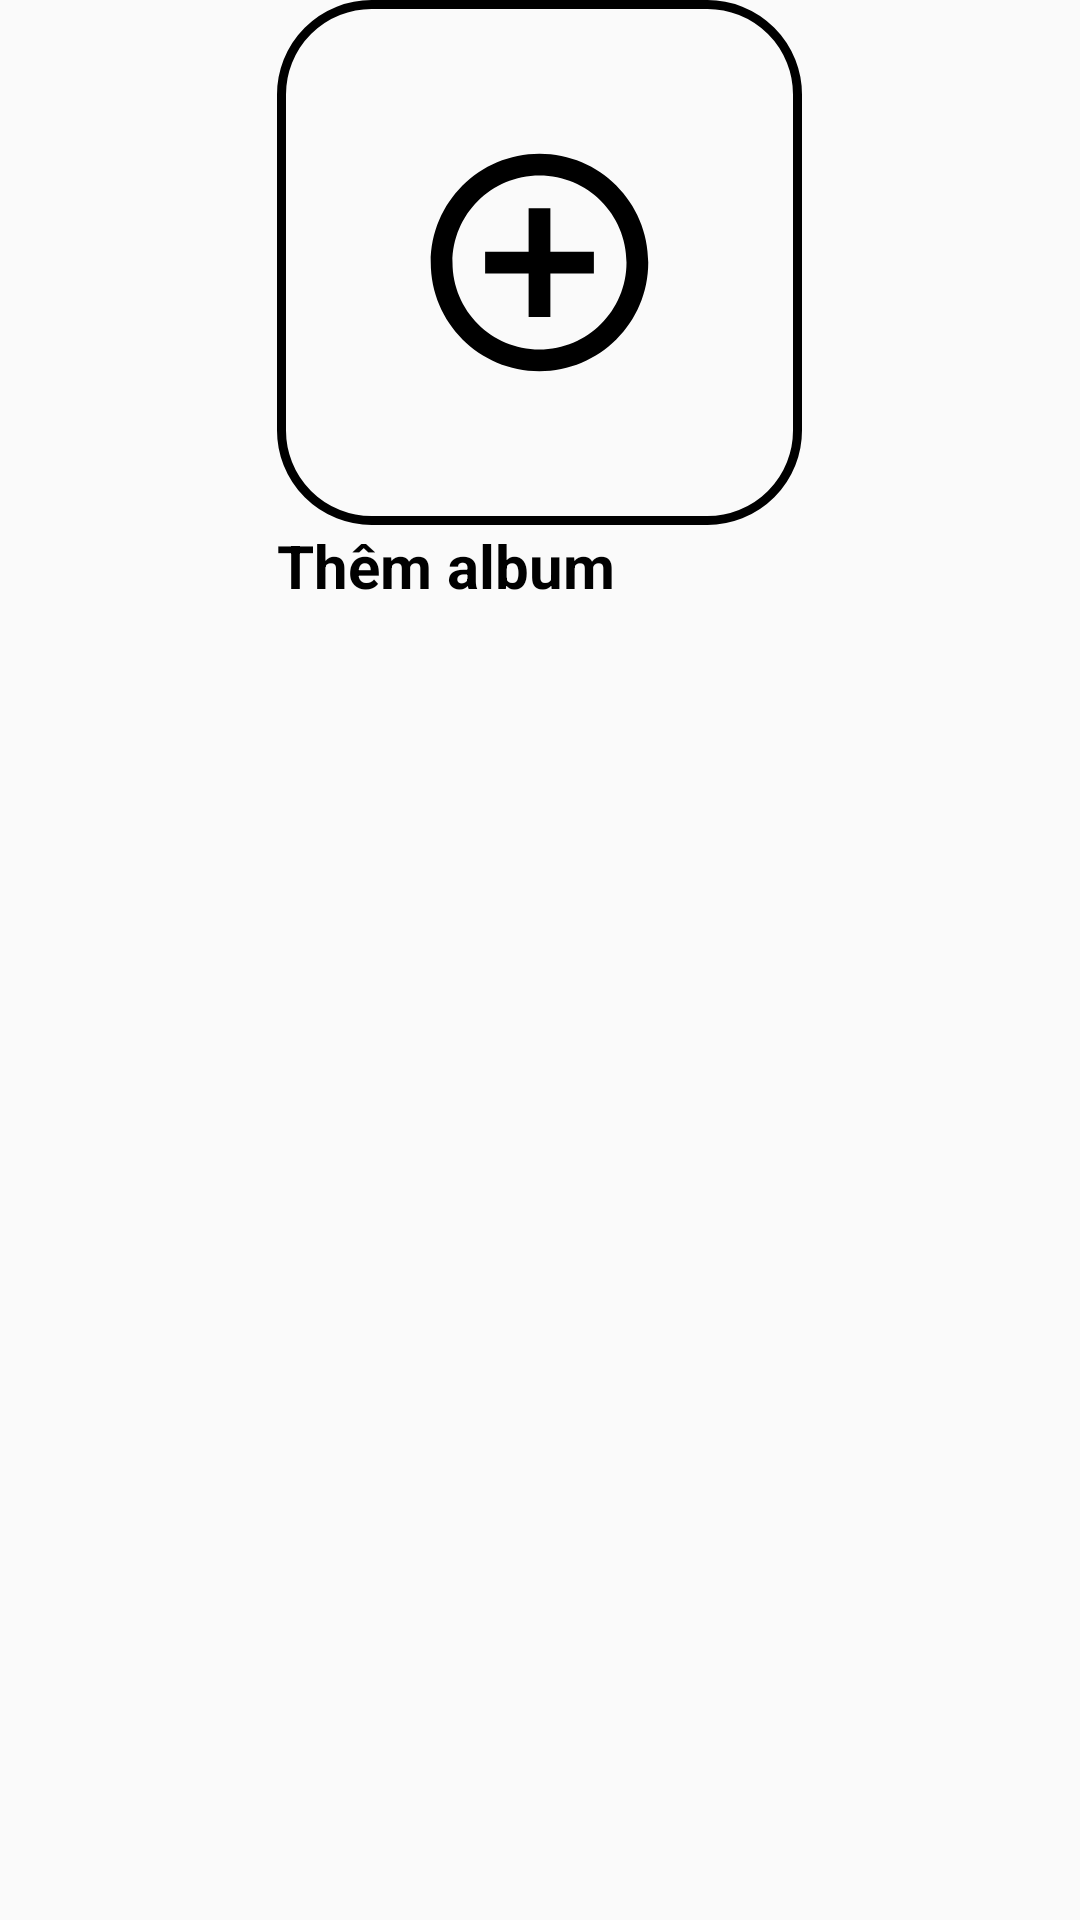

Locate icon controls on the screen. Image size 1080px×1920px, boxes as (x1, y1, x2, y2).
add circle line: (430, 153, 649, 372)
